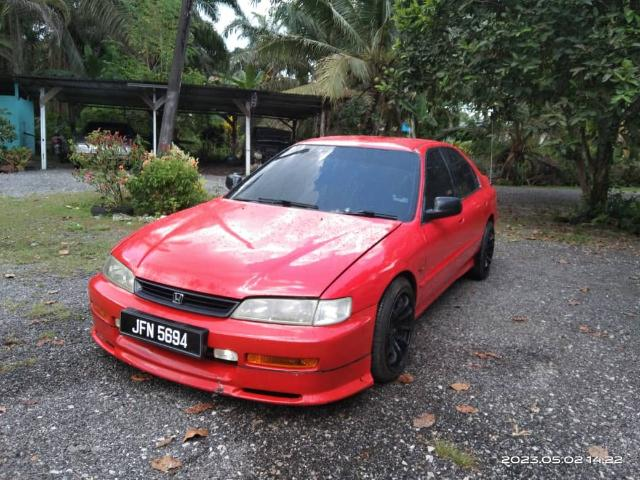License_Plate: (122, 311, 201, 353)
car: (71, 120, 503, 422)
